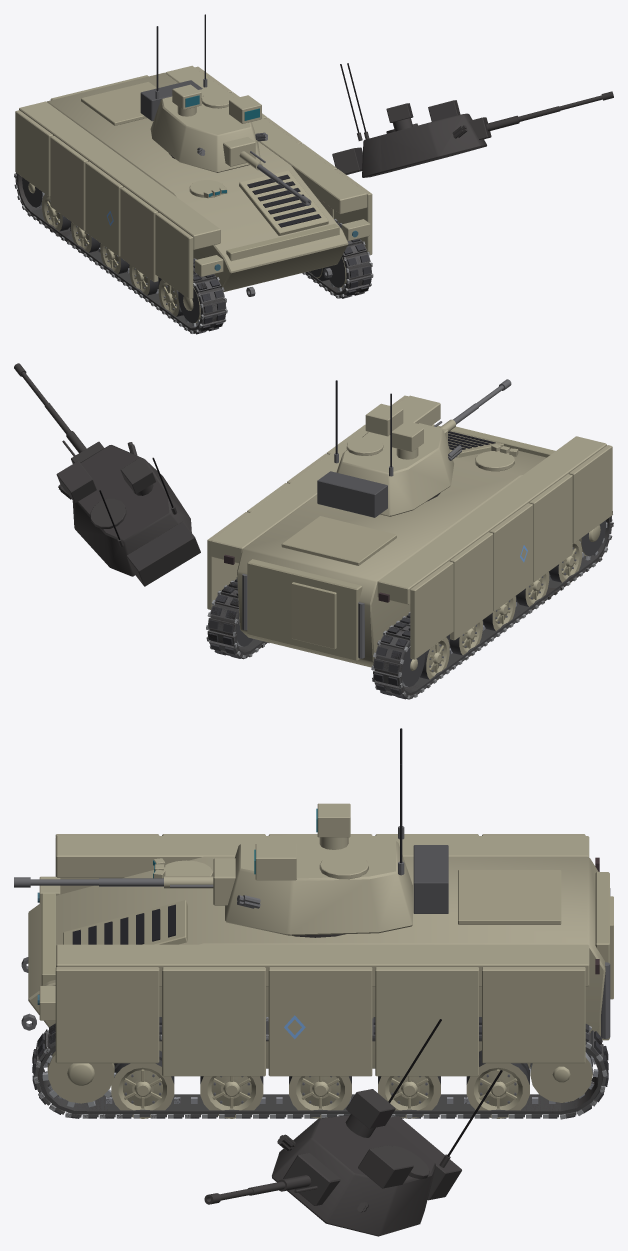
Rendered from ifv__acv_15.glb.
3 views of the same model, one above another, from view 1: azimuth 30°, elevation 25°; view 2: azimuth 150°, elevation 25°; view 3: azimuth 270°, elevation 25° (orthographic). The views are drawn at different scales.
Parts seen in each view (by area): view 1: Hull_Mesh, Wreck, Turret_Mesh, Track_L_Mesh, Track_R_Mesh, Gun_Mesh, Wheel_L4_Mesh, Sprocket_L_Mesh, Wheel_L0_Mesh, Wheel_L3_Mesh, Wheel_L1_Mesh, Wheel_L2_Mesh; view 2: Hull_Mesh, Wreck, Turret_Mesh, Track_L_Mesh, Track_R_Mesh, Wheel_L0_Mesh, Wheel_L4_Mesh, Gun_Mesh, Wheel_L1_Mesh, Wheel_L3_Mesh, Sprocket_L_Mesh, Wheel_L2_Mesh (+1 smaller); view 3: Hull_Mesh, Turret_Mesh, Wreck, Track_R_Mesh, Gun_Mesh, Wheel_R4_Mesh, Wheel_R0_Mesh, Sprocket_R_Mesh, Idler_R_Mesh, Wheel_R3_Mesh, Wheel_R2_Mesh, Wheel_R1_Mesh.
Boxes of the visible parts, box(x1,y1,x2,y2) form: Hull_Mesh: box(15, 65, 372, 299); Wreck: box(14, 63, 613, 333); Turret_Mesh: box(140, 14, 267, 172); Track_L_Mesh: box(14, 173, 227, 334); Track_R_Mesh: box(302, 216, 373, 298); Gun_Mesh: box(223, 137, 311, 205); Wheel_L4_Mesh: box(158, 279, 183, 316); Sprocket_L_Mesh: box(178, 287, 200, 326); Wheel_L0_Mesh: box(42, 194, 71, 231); Wheel_L3_Mesh: box(129, 265, 161, 295); Wheel_L1_Mesh: box(71, 222, 100, 253); Wheel_L2_Mesh: box(100, 243, 129, 274); Hull_Mesh: box(207, 395, 612, 667); Wreck: box(14, 363, 613, 699); Turret_Mesh: box(317, 380, 461, 517); Track_L_Mesh: box(371, 513, 613, 699); Track_R_Mesh: box(206, 577, 269, 659); Wheel_L0_Mesh: box(420, 637, 449, 680); Wheel_L4_Mesh: box(549, 540, 582, 582); Gun_Mesh: box(419, 379, 511, 442); Wheel_L1_Mesh: box(446, 620, 482, 656); Wheel_L3_Mesh: box(515, 572, 549, 606); Sprocket_L_Mesh: box(579, 520, 607, 560); Wheel_L2_Mesh: box(482, 596, 515, 631); Hull_Mesh: box(21, 834, 613, 1076); Turret_Mesh: box(225, 728, 448, 935); Wreck: box(32, 934, 608, 1236); Track_R_Mesh: box(32, 1017, 608, 1119); Gun_Mesh: box(14, 858, 235, 905); Wheel_R4_Mesh: box(111, 1050, 174, 1118); Wheel_R0_Mesh: box(466, 1050, 529, 1118); Sprocket_R_Mesh: box(42, 1050, 116, 1107); Idler_R_Mesh: box(530, 1051, 592, 1102); Wheel_R3_Mesh: box(200, 1076, 263, 1118); Wheel_R2_Mesh: box(289, 1076, 351, 1118); Wheel_R1_Mesh: box(378, 1076, 440, 1118).
Size of what is drawn, in the model's own units: 8.1 by 3.43 by 5.81.
